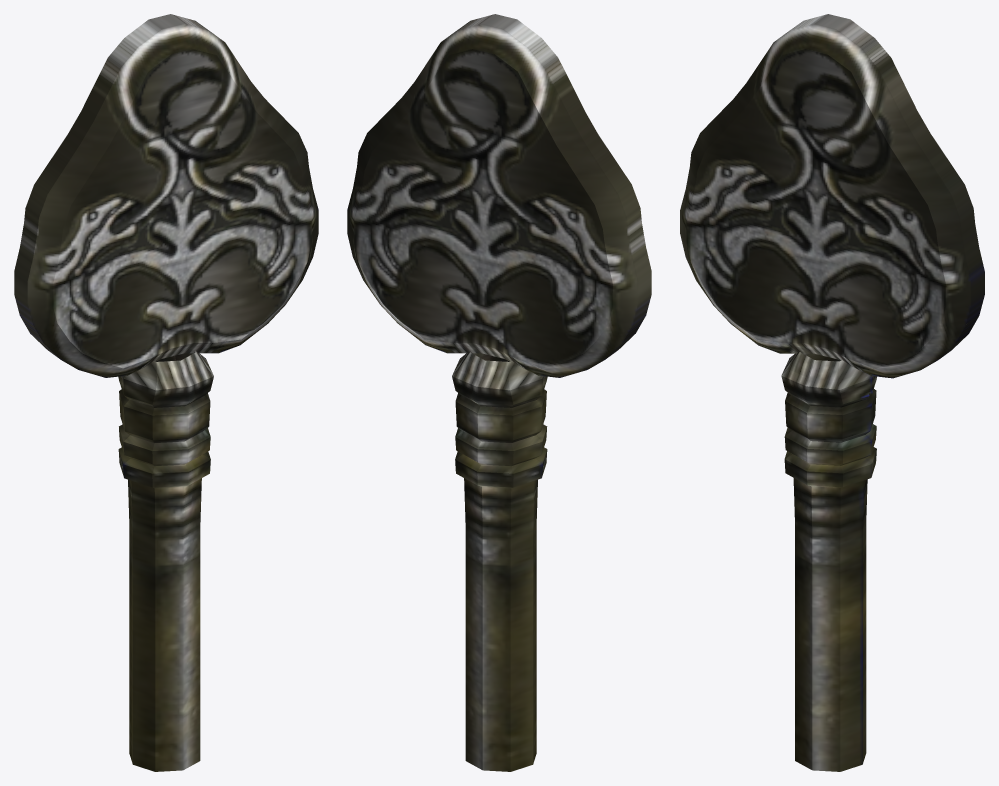
The model's file is PAST-Key2Cutoff.fbx.
3 renders of one model, left to right at view 1: azimuth 30°, elevation 25°; view 2: azimuth 150°, elevation 25°; view 3: azimuth 330°, elevation 25°, orthographic.
Visible parts, largest first — view 1: Key2Cutoff; view 2: Key2Cutoff; view 3: Key2Cutoff.
Boxes of the visible parts, left/top/right/bottom form: Key2Cutoff: left=14, top=14, right=318, bottom=771; Key2Cutoff: left=347, top=14, right=651, bottom=771; Key2Cutoff: left=680, top=14, right=984, bottom=771.
Bounding box in the file's own units: 1.03 × 2.48 × 0.3025.
Materials: 1 (1 with a texture image).
